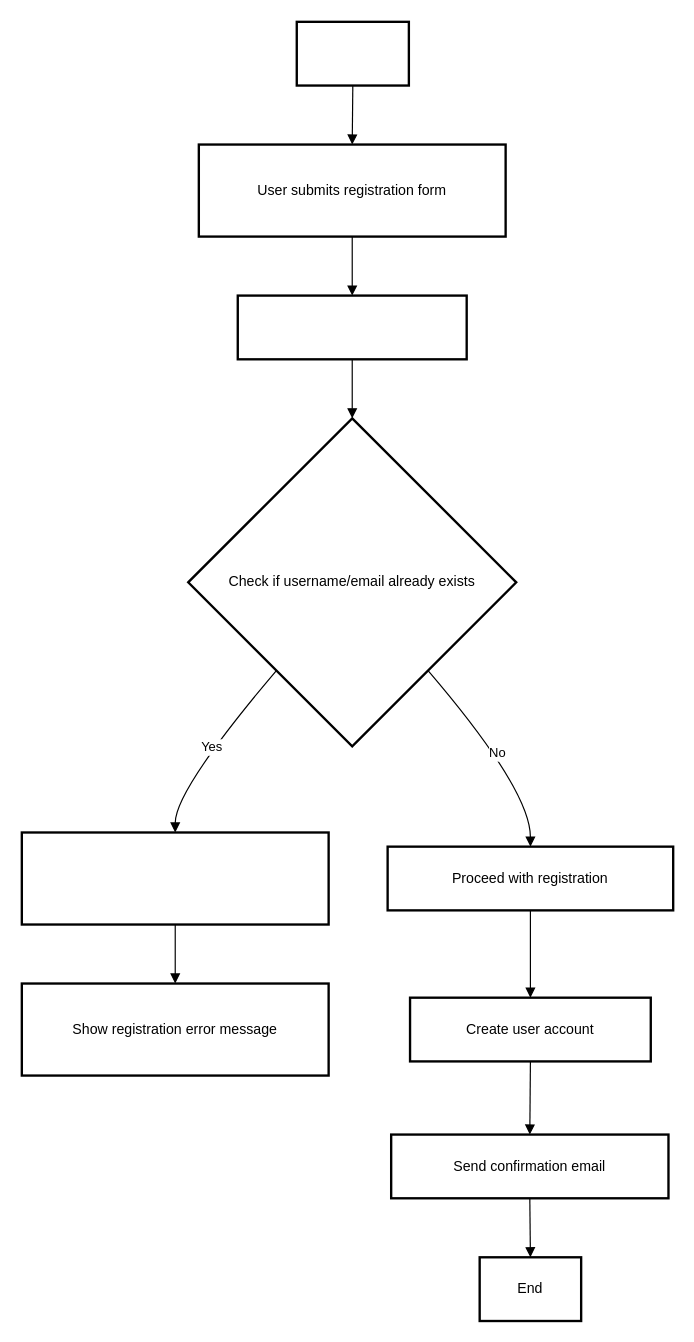
Some shapes in this 694 by 1342 pixel diagram are drawn without their labels. Each missing label, with the centre of its shape:
"Error: Username or email already exists" belongs at pixel 174 878.
"Start" belongs at pixel 352 53.
"Validate form data" belongs at pixel 351 327.
